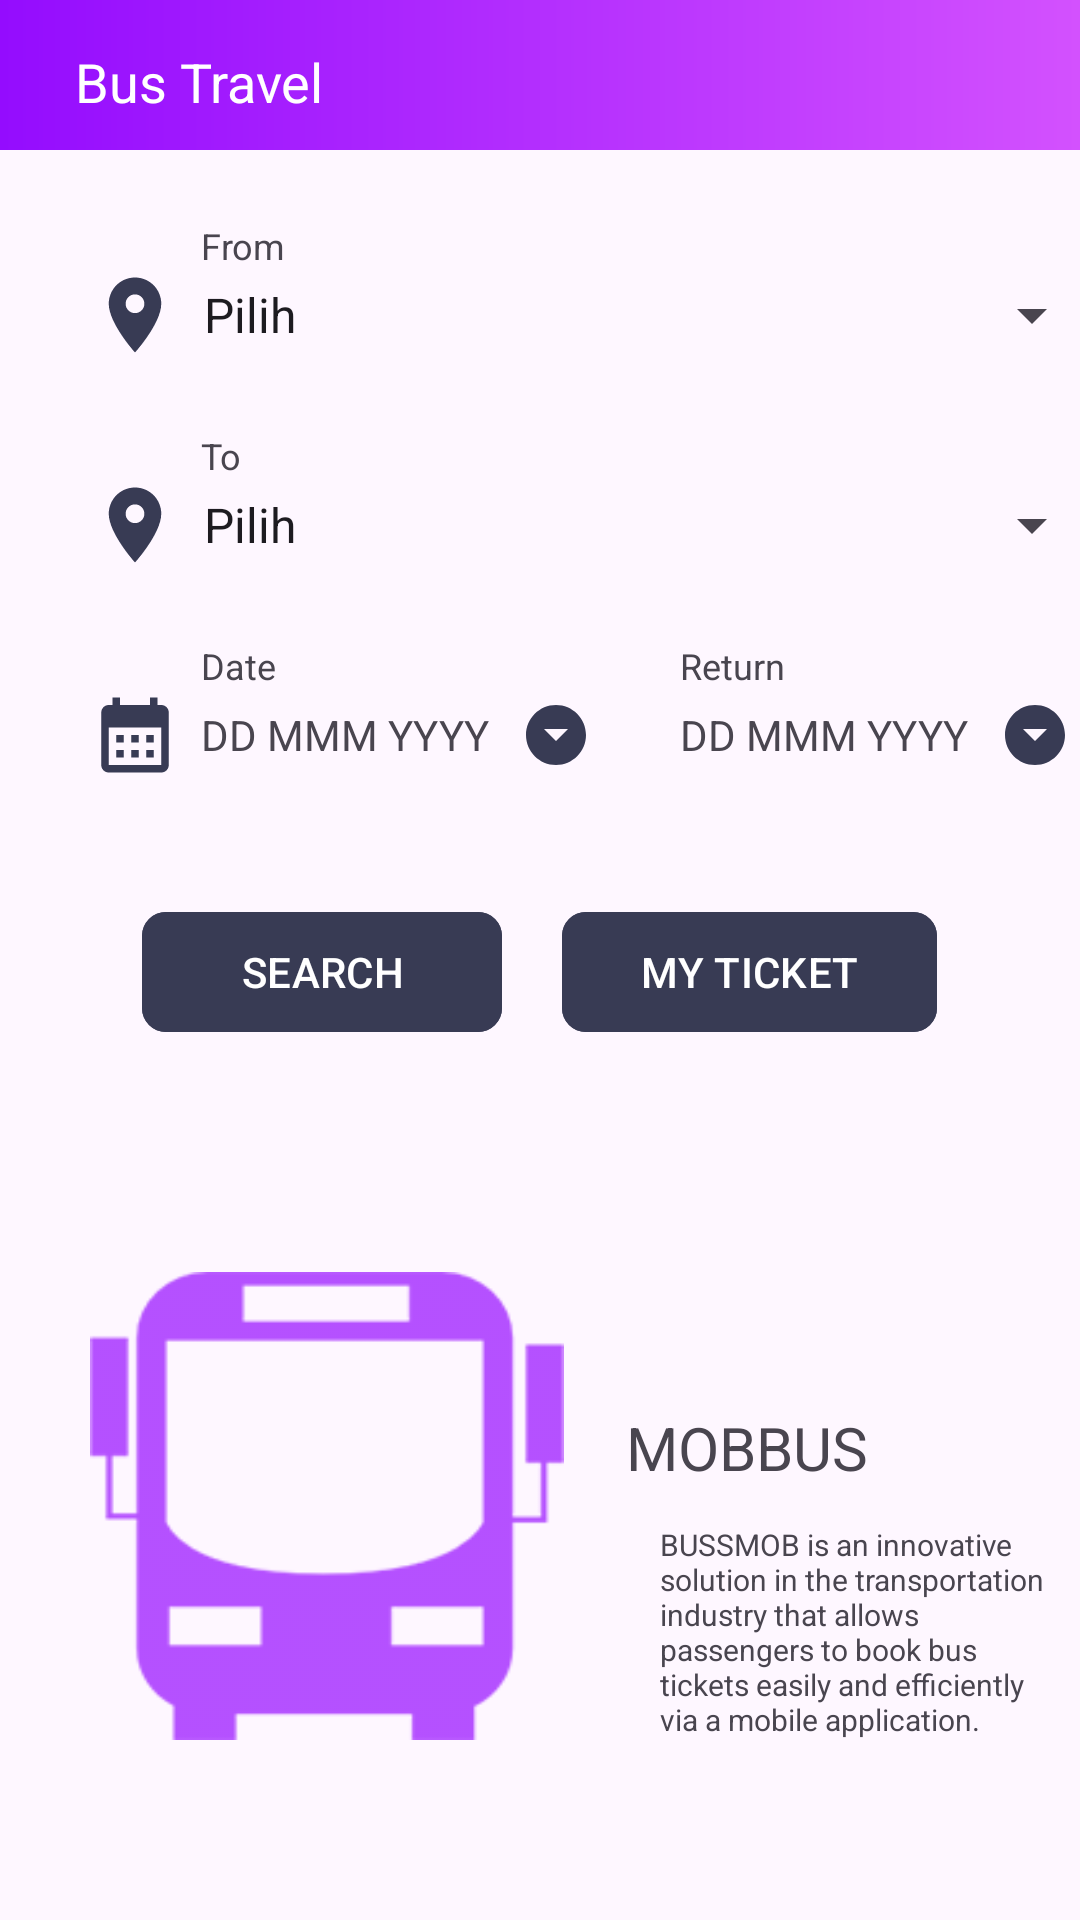

Named icons in this screenshot (1080x1920) and their centers, (x,y):
arrow drop down circle: (556,735), (1035,735)
calendar month: (135,735)
location on: (135,314), (135,524)
